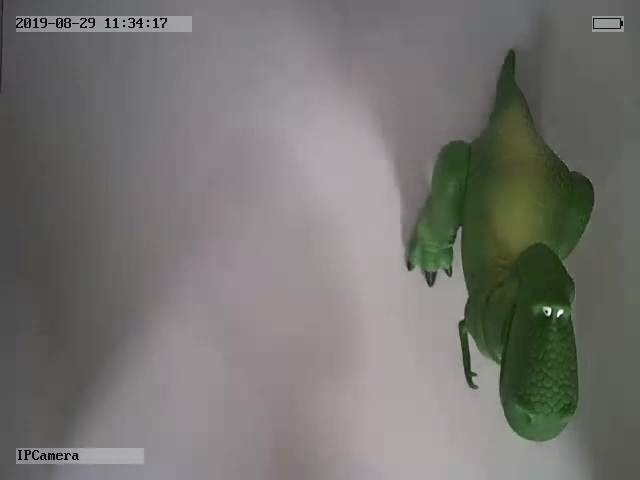rex: (404, 49, 598, 441)
